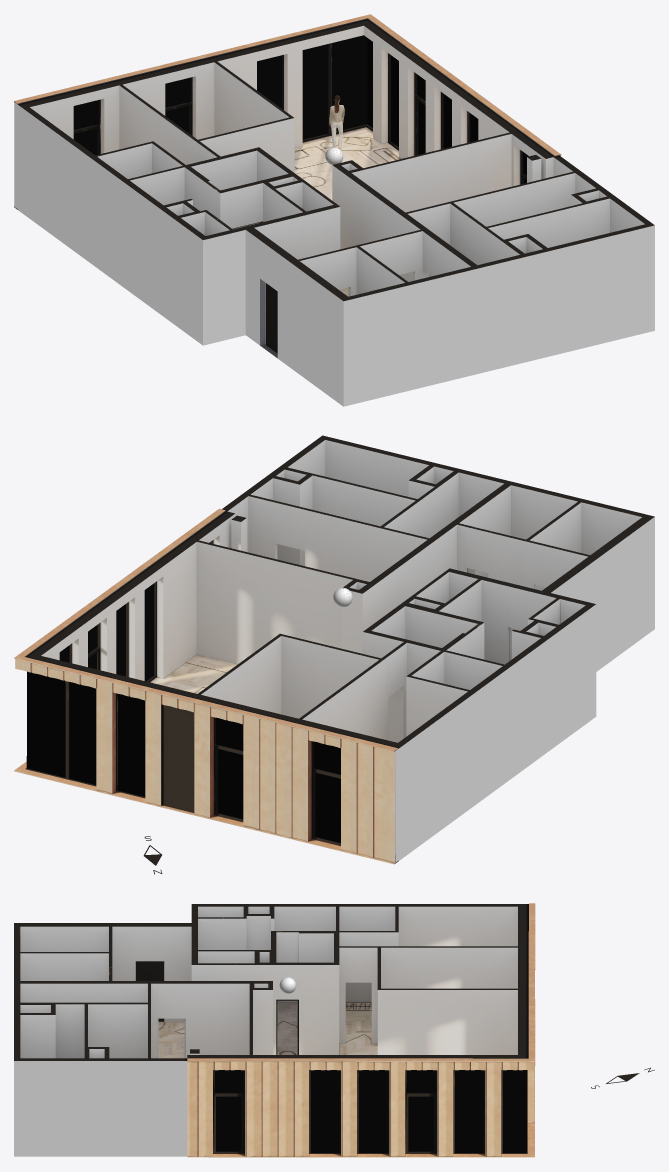
3 renders of one model, top to bottom at view 1: azimuth 30°, elevation 25°; view 2: azimuth 150°, elevation 25°; view 3: azimuth 270°, elevation 25°, orthographic. The views are drawn at different scales.
Visible parts, largest first — view 1: apt42, NO BAKE_OUTER WALLS, GLASS; view 2: apt42, NO BAKE_OUTER WALLS, GLASS; view 3: apt42, NO BAKE_OUTER WALLS, GLASS.
Boxes of the visible parts, box(x1,y1,x2,y2) form: apt42: box(14, 14, 654, 358); NO BAKE_OUTER WALLS: box(15, 103, 654, 406); GLASS: box(73, 35, 528, 183); apt42: box(14, 435, 654, 874); NO BAKE_OUTER WALLS: box(395, 517, 654, 862); GLASS: box(26, 542, 340, 842); apt42: box(14, 903, 654, 1157); NO BAKE_OUTER WALLS: box(14, 1061, 187, 1156); GLASS: box(214, 1070, 526, 1152).
Bounding box in the file's own units: 11.68 × 3.56 × 20.01.
Materials: 4 (1 with a texture image).
